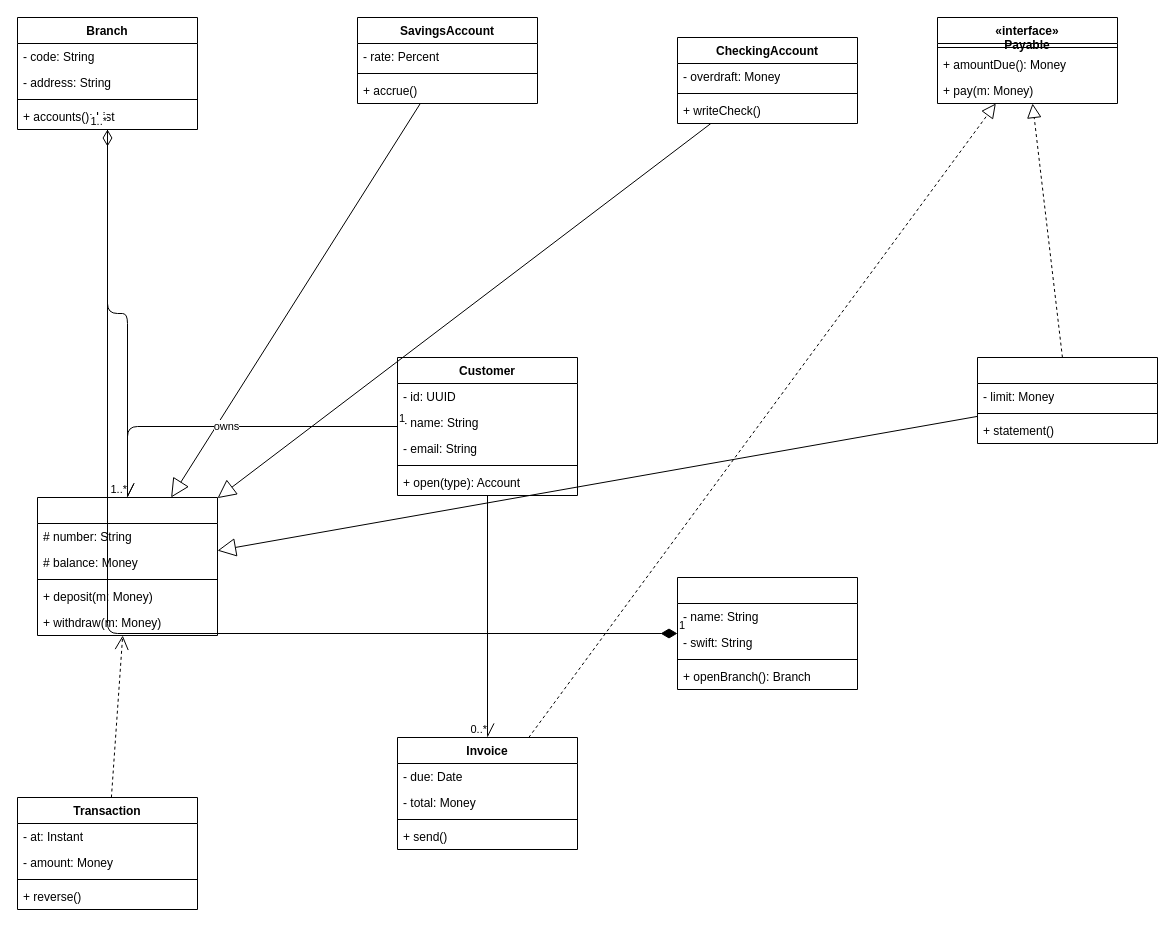
Image size: 1175x930. Some labels were removed from this diagram. Each missing label, with the box of its shape:
Account: (36, 496, 218, 636)
Bank: (676, 576, 858, 690)
CreditAccount: (976, 356, 1158, 444)
